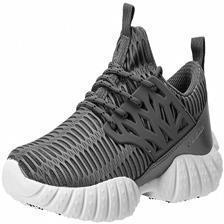Ladder: (61, 5, 172, 212)
